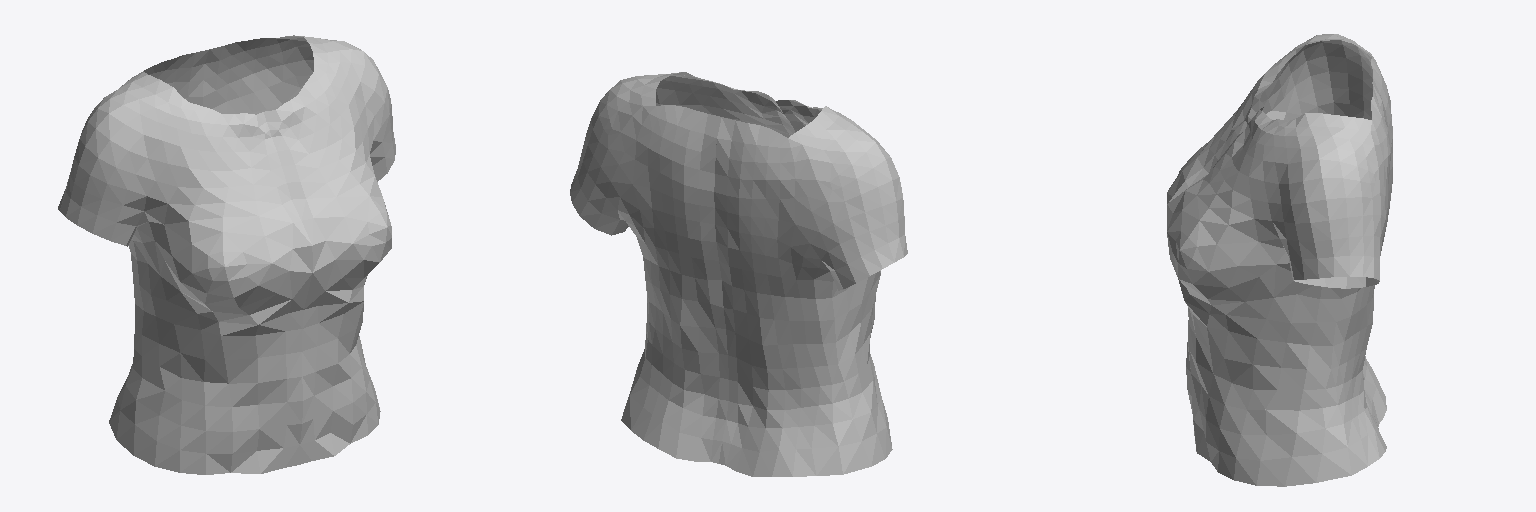
File: shirt.obj
3 views of the same model, side by side, from view 1: azimuth 30°, elevation 25°; view 2: azimuth 150°, elevation 25°; view 3: azimuth 270°, elevation 25° (orthographic).
Parts seen in each view (by area): view 1: shirt_Realistic_White_Female_Low_Poly.002; view 2: shirt_Realistic_White_Female_Low_Poly.002; view 3: shirt_Realistic_White_Female_Low_Poly.002.
Boxes of the visible parts, x1,y1,x2,y2 form: shirt_Realistic_White_Female_Low_Poly.002: [58, 35, 395, 474]; shirt_Realistic_White_Female_Low_Poly.002: [570, 72, 907, 476]; shirt_Realistic_White_Female_Low_Poly.002: [1167, 34, 1392, 486].
Size of the model in its own units: 0.4918 by 0.5153 by 0.2962.